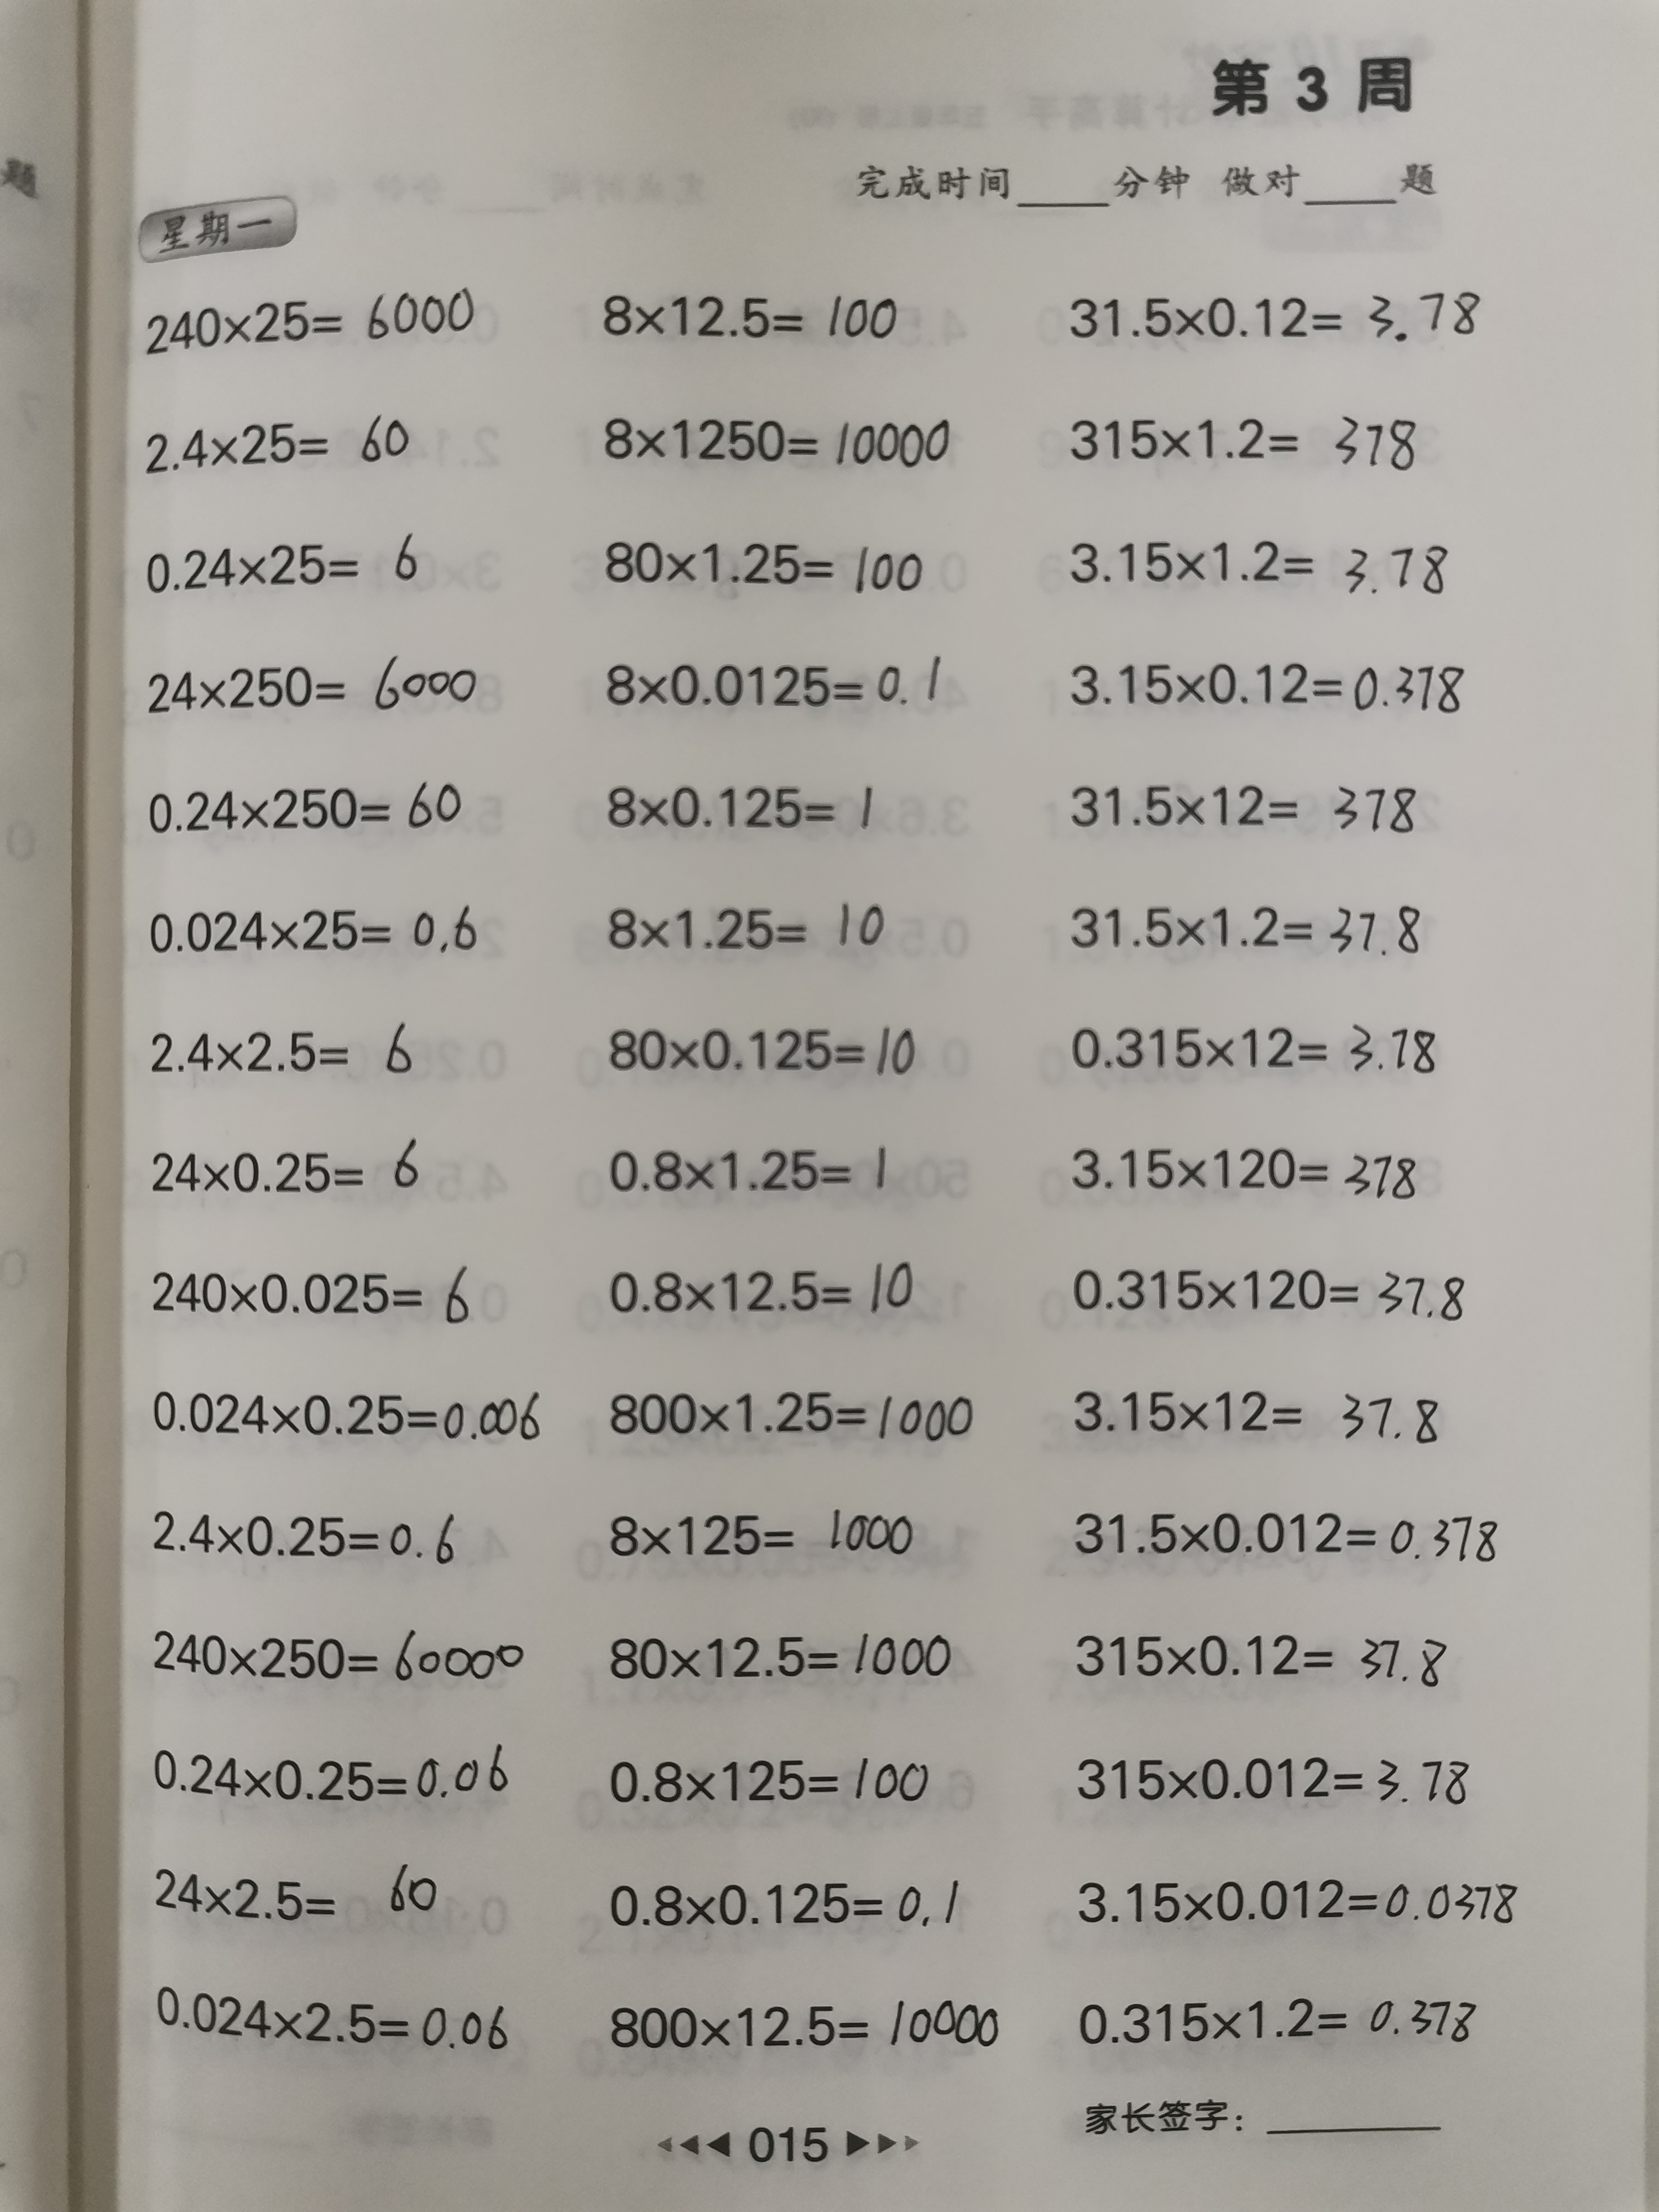equation: (1056, 639, 1481, 726), (132, 1973, 533, 2064), (138, 1606, 533, 1696), (134, 1376, 552, 1458), (1056, 1249, 1476, 1329), (132, 1730, 525, 1815), (1058, 1367, 1448, 1453), (1066, 1980, 1492, 2057), (603, 1371, 992, 1454), (587, 392, 958, 479), (1063, 1867, 1539, 1935), (1063, 1616, 1457, 1698), (1060, 1007, 1448, 1089), (138, 1244, 493, 1332), (1063, 1503, 1514, 1573), (1058, 1127, 1436, 1209), (1060, 282, 1500, 352), (132, 887, 491, 972), (1056, 524, 1462, 599), (1053, 773, 1453, 848), (1058, 1740, 1483, 1810), (596, 1986, 1006, 2057), (1061, 402, 1432, 481), (1054, 890, 1431, 967), (129, 282, 497, 361), (134, 1487, 476, 1571), (134, 1843, 457, 1930), (132, 763, 474, 845), (592, 646, 955, 719), (134, 646, 488, 721), (592, 528, 941, 603), (591, 887, 906, 968), (598, 1012, 932, 1089), (591, 1249, 925, 1325), (124, 397, 423, 482), (603, 1623, 969, 1691), (598, 1742, 941, 1813), (605, 1869, 974, 1935), (131, 521, 439, 599), (599, 1503, 925, 1575), (601, 768, 896, 846), (596, 279, 911, 350), (136, 1010, 422, 1089), (592, 1139, 904, 1209), (136, 1134, 439, 1204)
